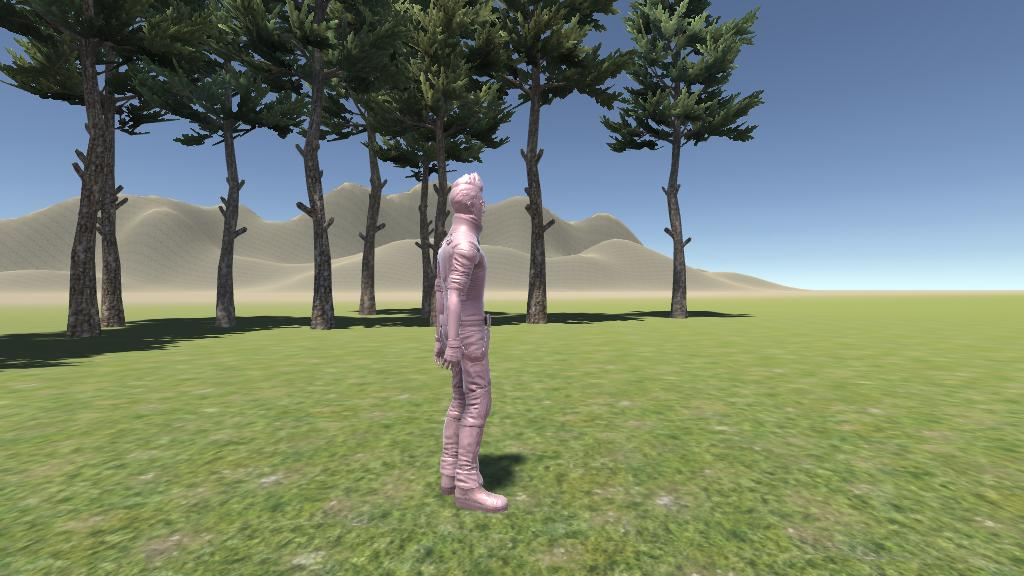ethan: (434, 172, 508, 514)
